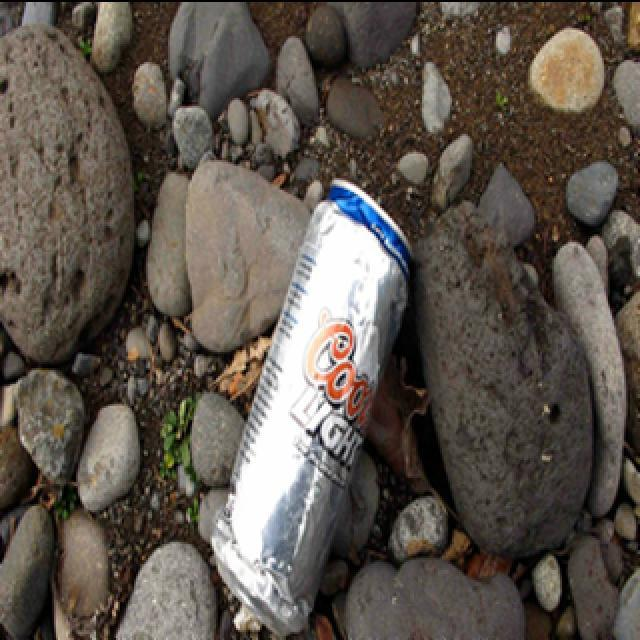can: (211, 181, 419, 631)
